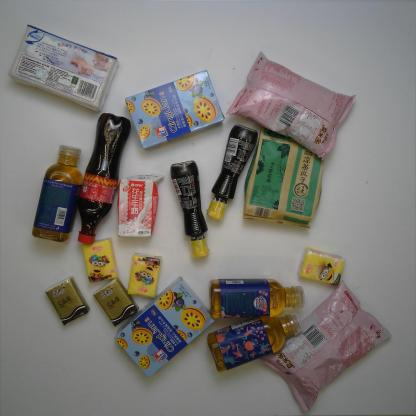Dessert: (112, 273, 215, 379), (124, 67, 228, 150)
Dried Food: (241, 127, 327, 231)
Drink: (72, 110, 132, 245), (205, 314, 302, 374), (28, 144, 84, 243), (205, 276, 306, 320)
Milk: (115, 172, 165, 240)
Puffed Food: (262, 280, 393, 414), (224, 49, 360, 163)
Seasoner: (206, 123, 258, 223), (168, 160, 210, 262)
Tissue: (4, 22, 121, 114), (44, 276, 91, 328), (92, 278, 140, 328), (297, 245, 346, 288), (82, 237, 120, 284), (126, 251, 163, 299)
